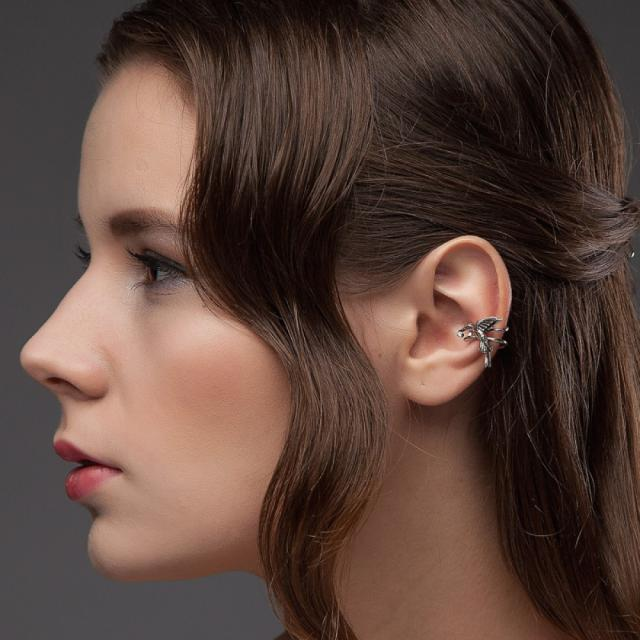earlobe: (406, 354, 454, 409)
eye: (130, 246, 199, 300)
nose: (24, 369, 100, 426)
wholeear: (407, 235, 512, 408)
